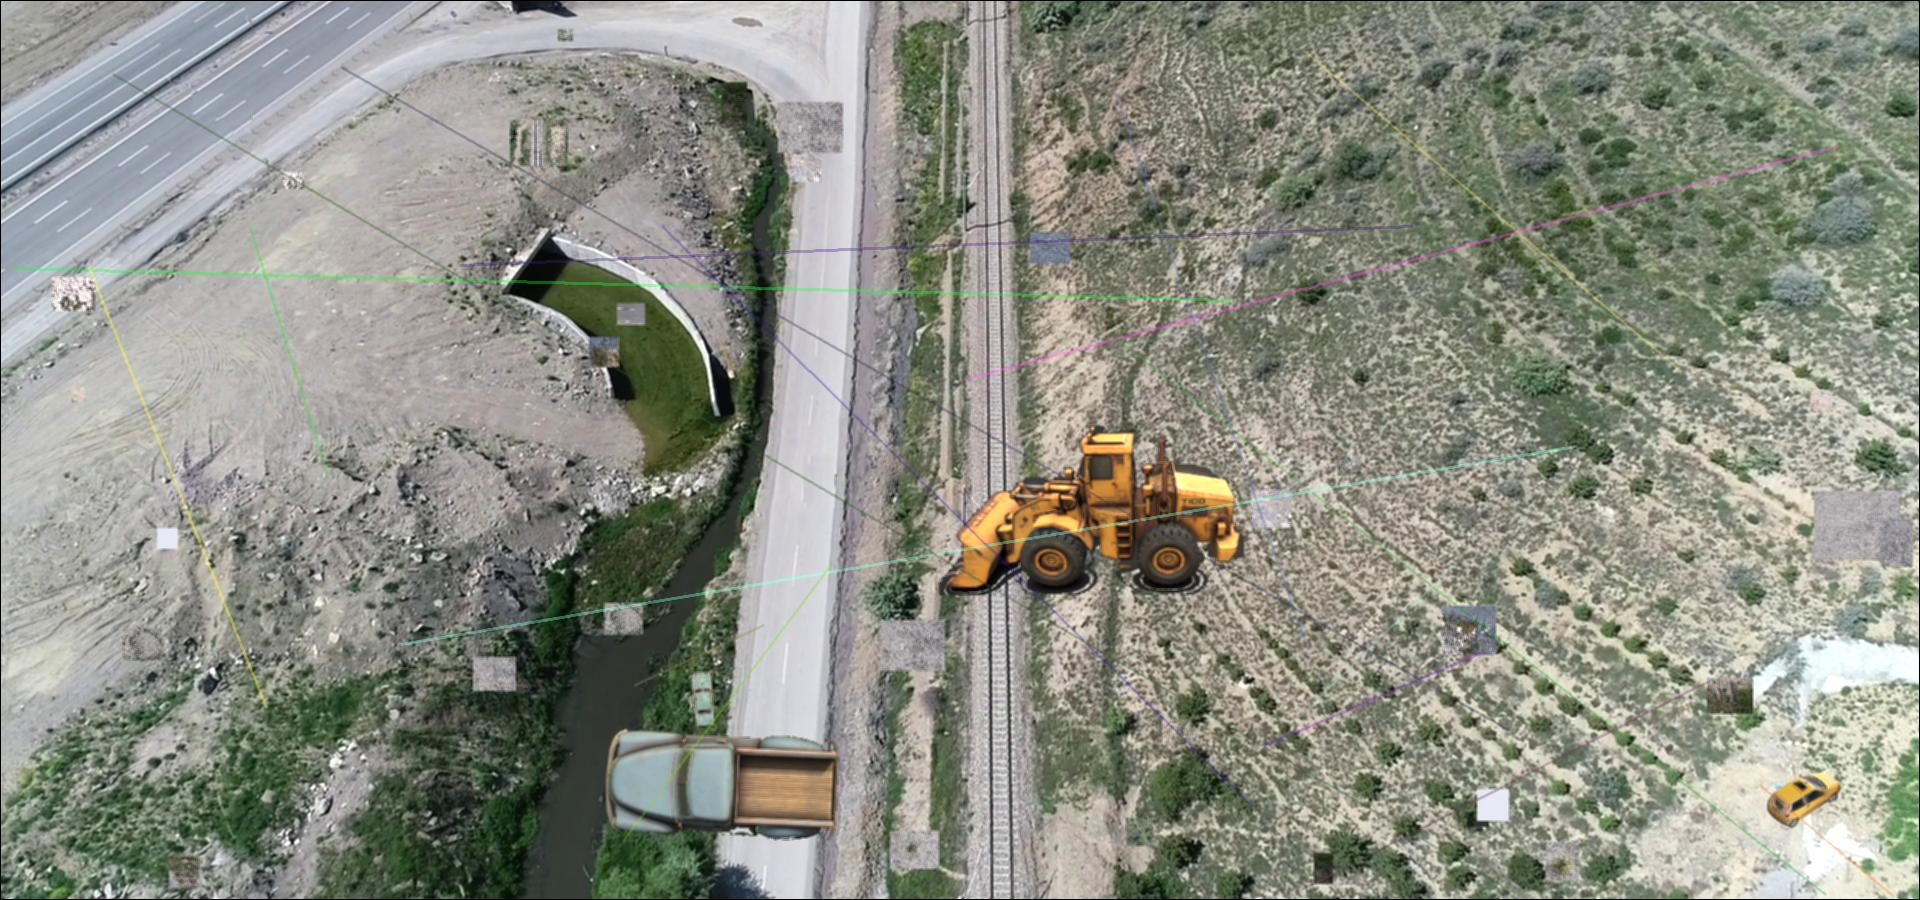arac: (939, 426, 1251, 595), (604, 729, 840, 842), (1766, 773, 1842, 828), (691, 670, 718, 730)
